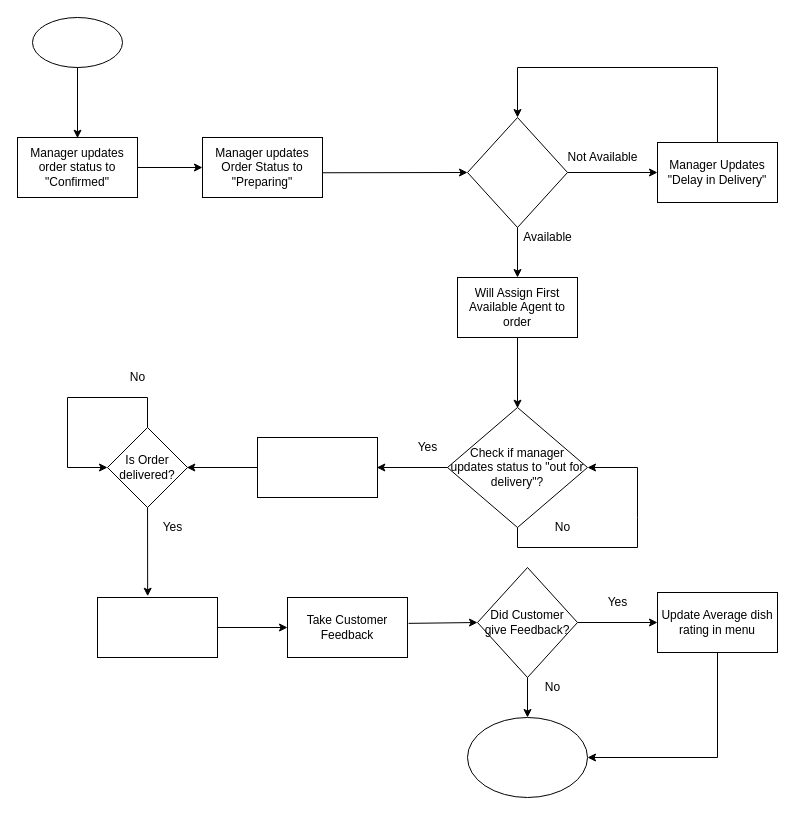
The diagram is 795 pixels wide and 815 high, and some of its shapes have lost their labels. Each missing label, with the box of its shape:
Delivery Agent Check: (466, 116, 568, 228)
Delivery Status updated to "out for delivery" and agent deliver order: (256, 436, 378, 498)
END: (466, 716, 588, 798)
Order Status to "Delivered": (96, 596, 218, 658)
START: (32, 16, 122, 68)
